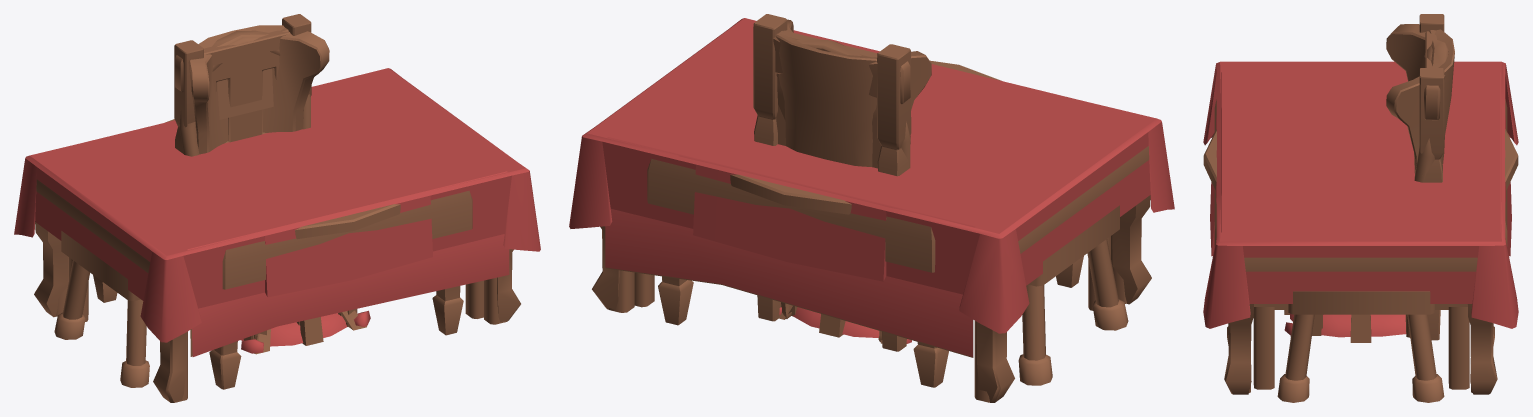
Rendered from table_chair.fbx.
The picture shows the model from 3 angles, left to right: view 1: azimuth 30°, elevation 25°; view 2: azimuth 150°, elevation 25°; view 3: azimuth 270°, elevation 25°; orthographic projection. The views are drawn at different scales.
Parts seen in each view (by area): view 1: table_5, table_1, table_3, chair_5, chair_6, table_2, bench_1, chair_1, cushion_1, table_4, chair_3, chair_2; view 2: table_5, table_1, chair_5, table_3, chair_6, table_2, bench_1, table_4, chair_3, cushion_1; view 3: table_5, table_1, bench_1, table_2, chair_5, chair_6, cushion_1, chair_3, table_4, chair_1, chair_2, table_3.
Boxes of the visible parts, left/top/right/bottom form: table_5: left=52, top=72, right=509, bottom=356; table_1: left=14, top=68, right=540, bottom=402; table_3: left=93, top=190, right=472, bottom=389; chair_5: left=188, top=25, right=356, bottom=337; chair_6: left=174, top=14, right=357, bottom=340; table_2: left=34, top=179, right=520, bottom=402; bench_1: left=54, top=231, right=149, bottom=387; chair_1: left=179, top=37, right=348, bottom=326; cushion_1: left=240, top=310, right=370, bottom=353; table_4: left=165, top=119, right=400, bottom=325; chair_3: left=175, top=28, right=341, bottom=316; chair_2: left=300, top=317, right=323, bottom=345; table_5: left=605, top=30, right=1130, bottom=357; table_1: left=569, top=18, right=1174, bottom=402; chair_5: left=775, top=19, right=931, bottom=341; table_3: left=647, top=159, right=1083, bottom=387; chair_6: left=753, top=14, right=911, bottom=351; table_2: left=592, top=146, right=1151, bottom=402; bench_1: left=1018, top=205, right=1128, bottom=385; table_4: left=730, top=60, right=1001, bottom=214; chair_3: left=773, top=31, right=910, bottom=316; cushion_1: left=779, top=307, right=911, bottom=343; table_5: left=1221, top=72, right=1501, bottom=389; table_1: left=1203, top=61, right=1518, bottom=392; bench_1: left=1277, top=291, right=1444, bottom=402; table_2: left=1224, top=257, right=1497, bottom=394; chair_5: left=1386, top=24, right=1454, bottom=173; chair_6: left=1312, top=14, right=1444, bottom=340; cushion_1: left=1284, top=313, right=1406, bottom=337; chair_3: left=1321, top=30, right=1448, bottom=331; table_4: left=1203, top=129, right=1518, bottom=189; chair_1: left=1406, top=45, right=1434, bottom=337; chair_2: left=1284, top=310, right=1371, bottom=342; table_3: left=1214, top=99, right=1507, bottom=345.
Bounding box in the file's own units: 172 × 110 × 119.
